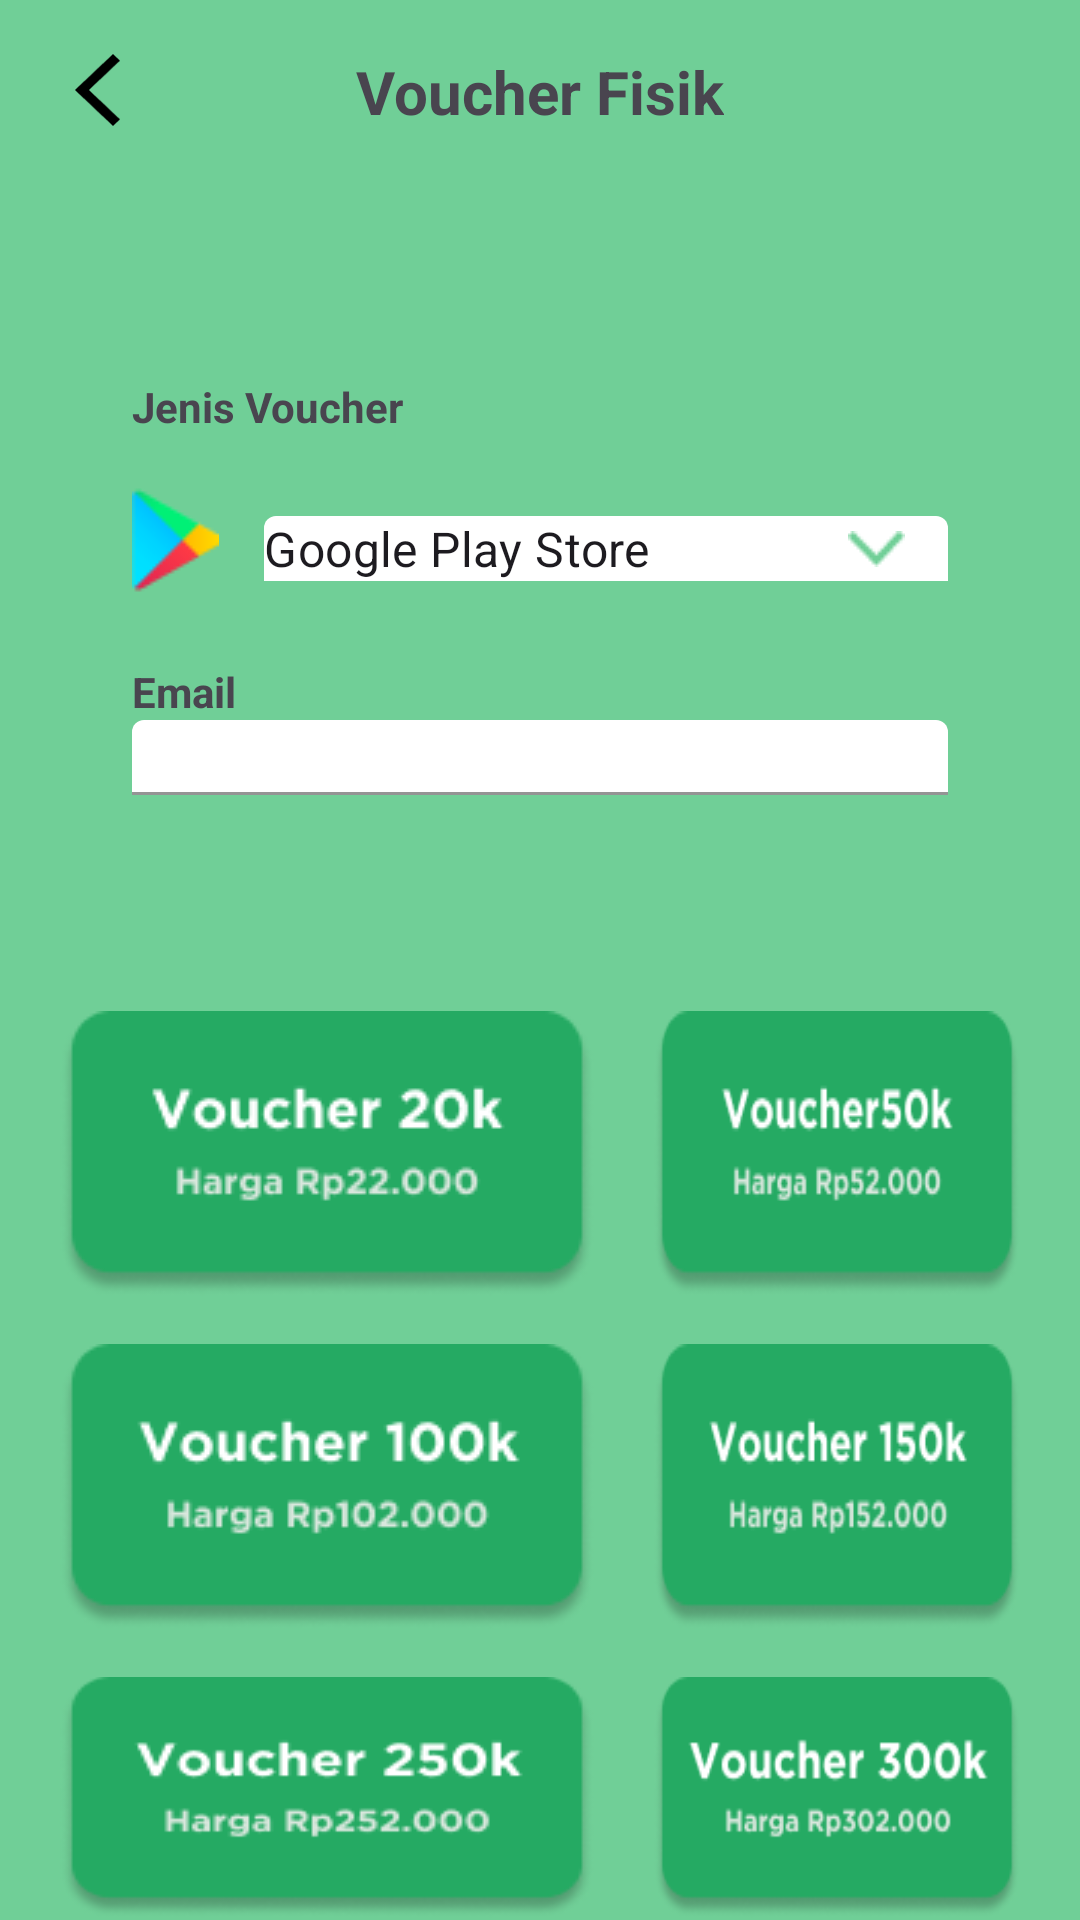

Screen size 1080 x 1920. Icon name, then its box in pixels as (left=x1, top=y1, right=x2, bottom=y2):
iconback: (left=75, top=54, right=120, bottom=126)
